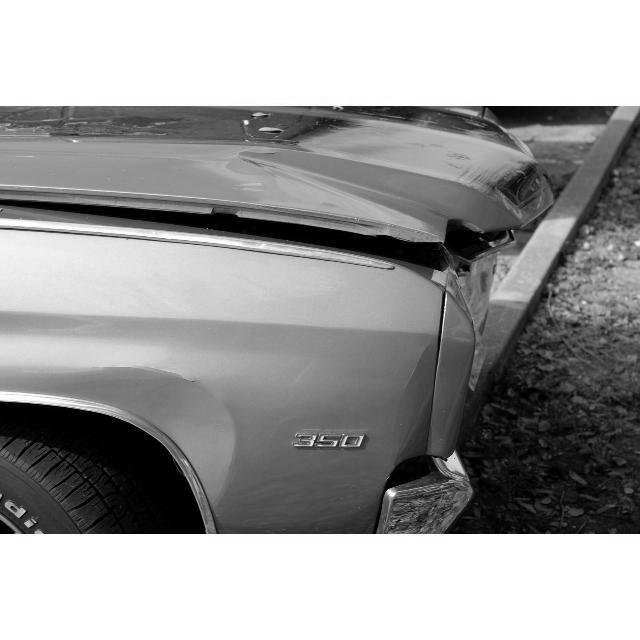bonnet-dent: (15, 107, 561, 292)
